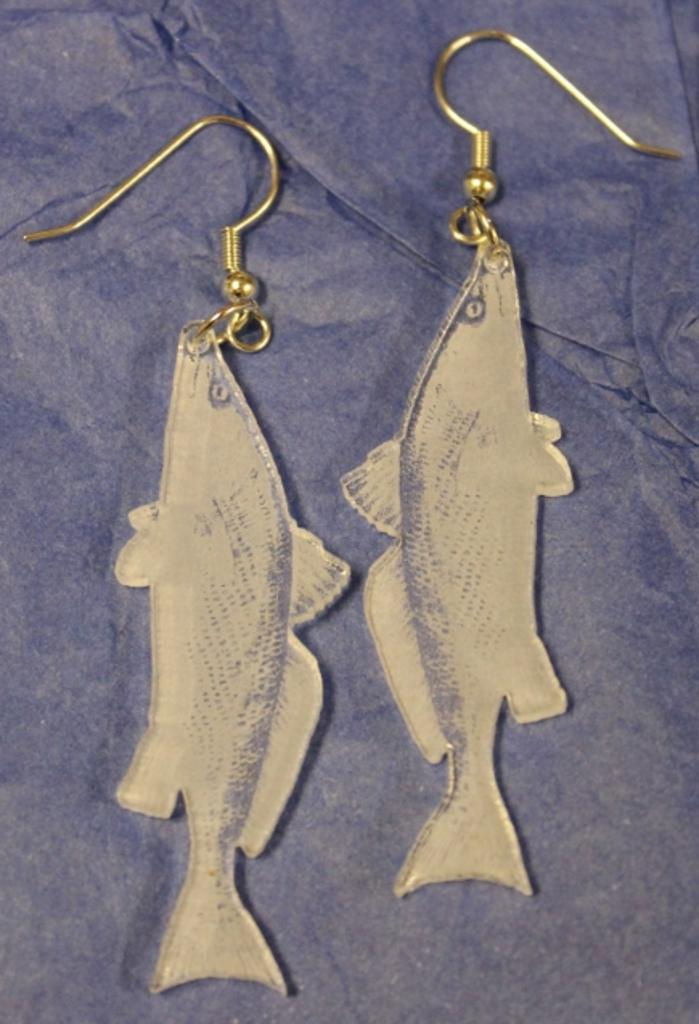earrings: (321, 24, 686, 899), (18, 111, 362, 998), (19, 111, 346, 994)
